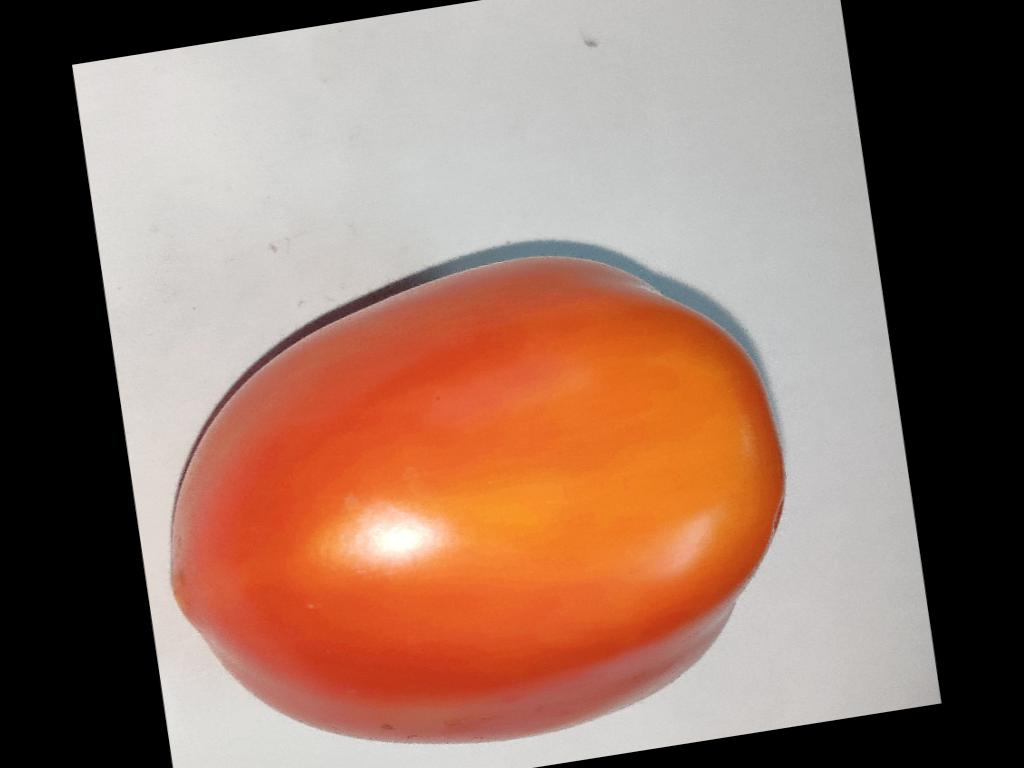tomato: (173, 256, 783, 741)
